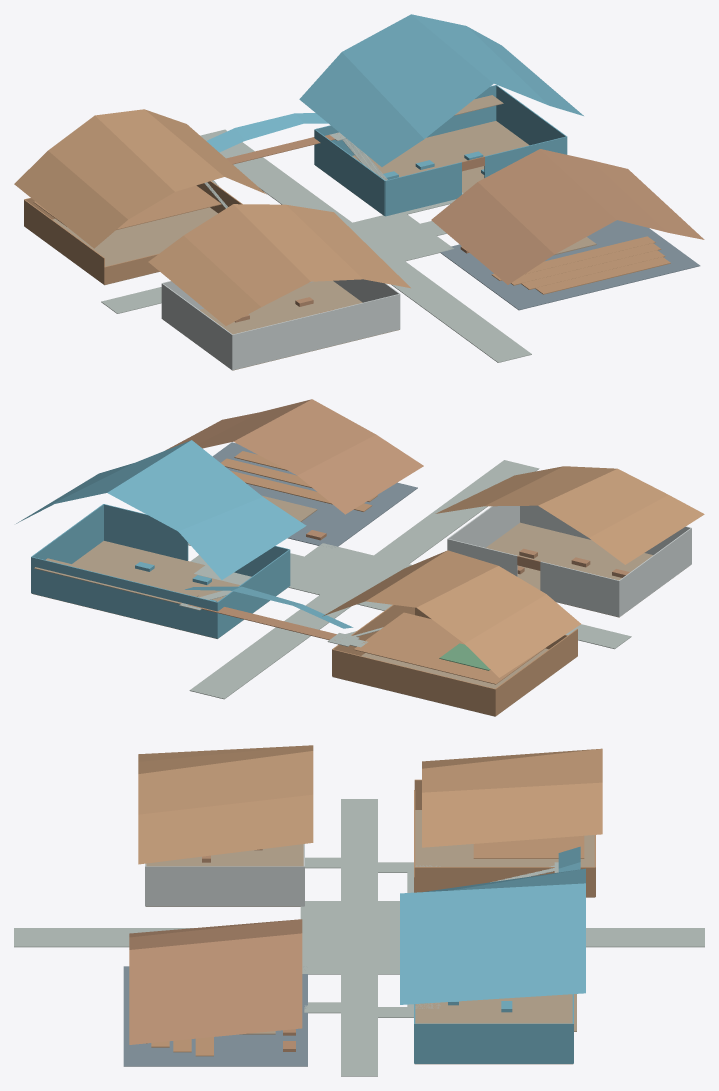
File: M35_SAVED_CITY_ART_HOLD.glb
The picture shows the model from 3 angles, top to bottom: view 1: azimuth 30°, elevation 25°; view 2: azimuth 150°, elevation 25°; view 3: azimuth 270°, elevation 25°; orthographic projection. The views are drawn at different scales.
Visible parts, largest first — view 1: M35_RESEARCH_CIVIC_COVER, M35_CULTURE_CANOPY, M35_FAB_ACTIVITY_ROOF, M35_HAB_INHABITED_SKYLINE, M35_FAB_BACK, M35_CULTURE_GROUND, M35_SOUTH_AXIS, M35_RESEARCH_REAL_FLOOR, M35_HABITAT_GROUND, M35_FAB_REAL_FLOOR, M35_CIVIC_CROSS, M35_RESEARCH_FRONT_LEFT (+17 smaller); view 2: M35_RESEARCH_CIVIC_COVER, M35_HAB_INHABITED_SKYLINE, M35_CULTURE_CANOPY, M35_FAB_ACTIVITY_ROOF, M35_RESEARCH_BACK, M35_HAB_NORTH, M35_CIVIC_CROSS, M35_HAB_ACTUAL_UPPER_LIVING, M35_CULTURE_GROUND, M35_FAB_REAL_FLOOR, M35_NORTH_AXIS, M35_RESEARCH_REAL_FLOOR (+21 smaller); view 3: M35_RESEARCH_CIVIC_COVER, M35_CULTURE_CANOPY, M35_FAB_ACTIVITY_ROOF, M35_HAB_INHABITED_SKYLINE, M35_CIVIC_CROSS, M35_FAB_EAST, M35_RESEARCH_EAST, M35_CULTURE_GROUND, M35_WEST_AXIS, M35_EAST_AXIS, M35_RESEARCH_REAL_FLOOR, M35_HABITAT_GROUND (+8 smaller).
Part boxes in pixels (x1,y1,x2,y2): M35_RESEARCH_CIVIC_COVER: (299, 14, 583, 166); M35_CULTURE_CANOPY: (431, 149, 704, 284); M35_FAB_ACTIVITY_ROOF: (148, 204, 410, 325); M35_HAB_INHABITED_SKYLINE: (14, 109, 266, 248); M35_FAB_BACK: (232, 294, 400, 370); M35_CULTURE_GROUND: (440, 220, 700, 310); M35_SOUTH_AXIS: (383, 256, 531, 362); M35_RESEARCH_REAL_FLOOR: (323, 121, 529, 212); M35_HABITAT_GROUND: (31, 207, 217, 285); M35_FAB_REAL_FLOOR: (185, 280, 399, 370); M35_CIVIC_CROSS: (348, 212, 453, 261); M35_RESEARCH_FRONT_LEFT: (385, 162, 461, 216); M35_RESEARCH_CIVIC_COVER: (16, 440, 306, 579); M35_HAB_INHABITED_SKYLINE: (322, 550, 580, 677); M35_CULTURE_CANOPY: (165, 399, 423, 514); M35_FAB_ACTIVITY_ROOF: (435, 466, 704, 564); M35_RESEARCH_BACK: (31, 557, 217, 638); M35_HAB_NORTH: (332, 649, 495, 716); M35_CIVIC_CROSS: (288, 543, 411, 610); M35_HAB_ACTUAL_UPPER_LIVING: (353, 612, 546, 684); M35_CULTURE_GROUND: (212, 442, 417, 547); M35_FAB_REAL_FLOOR: (486, 522, 678, 617); M35_NORTH_AXIS: (189, 594, 354, 699); M35_RESEARCH_REAL_FLOOR: (32, 541, 285, 638); M35_RESEARCH_CIVIC_COVER: (400, 868, 585, 1004); M35_CULTURE_CANOPY: (129, 919, 302, 1044); M35_FAB_ACTIVITY_ROOF: (138, 745, 313, 864); M35_HAB_INHABITED_SKYLINE: (422, 748, 602, 847); M35_CIVIC_CROSS: (300, 901, 399, 974); M35_FAB_EAST: (145, 866, 304, 906); M35_RESEARCH_EAST: (414, 1023, 573, 1063); M35_CULTURE_GROUND: (123, 966, 307, 1066); M35_WEST_AXIS: (341, 799, 377, 903); M35_EAST_AXIS: (341, 974, 377, 1076); M35_RESEARCH_REAL_FLOOR: (415, 996, 572, 1064); M35_HABITAT_GROUND: (415, 810, 594, 897).
Size of the model in its own units: 356 by 82.2 by 375.
